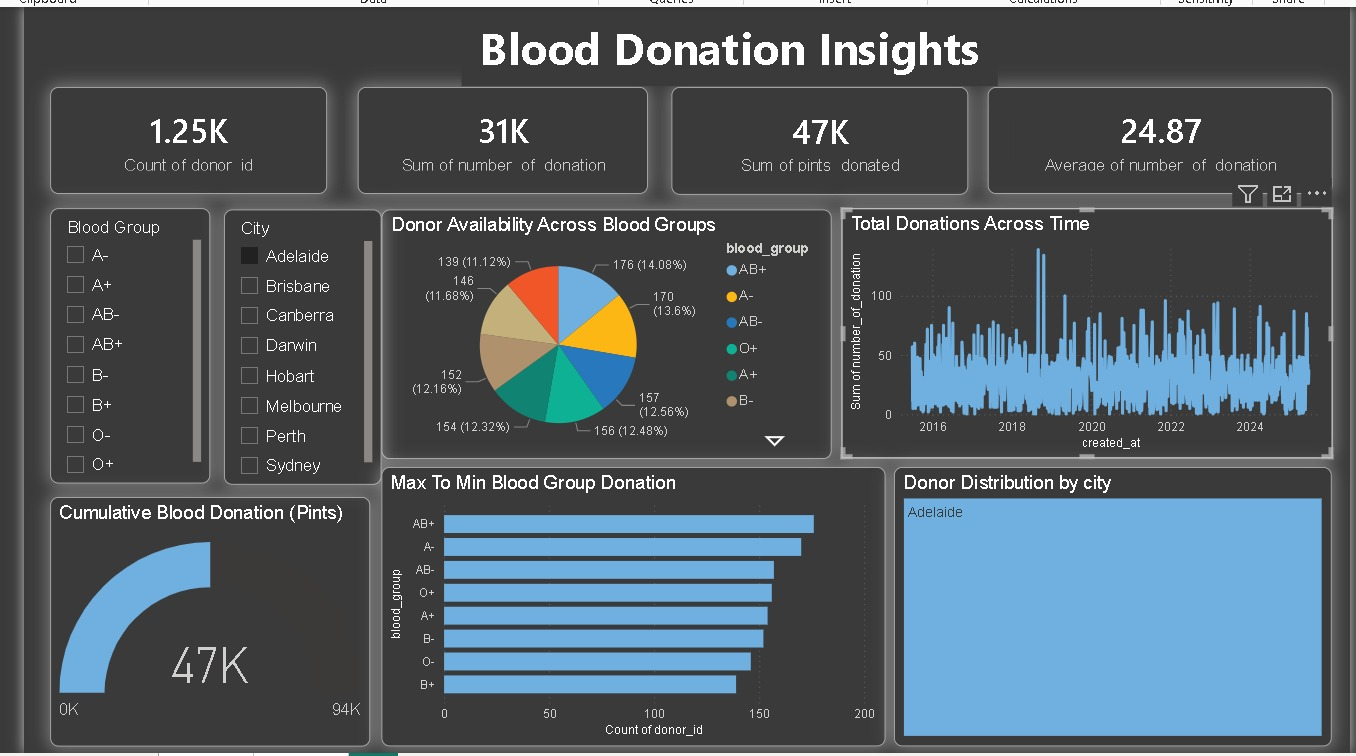

The page's visual inventory and layout, read from the dashboard file:
{"tool":"powerbi","page":{"name":"Page 1","canvas":[1280,720],"ordinal":0},"visuals":[{"type":"cardVisual","fields":{"Data":["CountNonNull(blood_donor_dataset.donor_id)"]},"box":[25.1,76.6,266.8,103],"z":0},{"type":"cardVisual","fields":{"Data":["Sum(blood_donor_dataset.number_of_donation)"]},"box":[322.3,76.6,280,103],"z":1000},{"type":"cardVisual","fields":{"Data":["Sum(blood_donor_dataset.pints_donated)"]},"box":[624.8,76.6,286.6,104.4],"z":2000},{"type":"cardVisual","fields":{"Data":["Avg(blood_donor_dataset.number_of_donation)"]},"box":[929.9,76.6,332.9,103],"z":3000},{"type":"pieChart","title":"Donor Availability Across Blood Groups","fields":{"Category":["blood_donor_dataset.blood_group"],"Y":["CountNonNull(blood_donor_dataset.availability)"]},"box":[344.8,195.5,434.6,240.4],"z":4000},{"type":"lineChart","title":"Total Donations Across Time","fields":{"Category":["blood_donor_dataset.created_at"],"Y":["Sum(blood_donor_dataset.number_of_donation)"]},"box":[788.6,194.2,474.2,241.7],"z":5000},{"type":"textbox","box":[422.7,6.6,517.8,70],"z":6000},{"type":"slicer","fields":{"Values":["blood_donor_dataset.blood_group"]},"box":[25.7,194.3,154.3,265.7],"z":7000},{"type":"gauge","title":"Cumulative Blood Donation (Pints)","fields":{"Y":["Sum(blood_donor_dataset.pints_donated)"]},"box":[25.1,472.9,309.1,240.4],"z":8000},{"type":"slicer","fields":{"Values":["blood_donor_dataset.city"]},"box":[193,195.4,152,265.4],"z":9000},{"type":"clusteredBarChart","title":"Max To Min  Blood Group Donation","fields":{"Y":["CountNonNull(blood_donor_dataset.donor_id)"],"Category":["blood_donor_dataset.blood_group"]},"box":[344.8,443.8,486.1,269.5],"z":10000},{"type":"treemap","title":"Donor Distribution by city","fields":{"Group":["blood_donor_dataset.city"],"Values":["CountNonNull(blood_donor_dataset.donor_id)"]},"box":[840.1,443.8,422.7,269.5],"z":11000}]}

Visuals, with their boxes in screenshot pixels (x1, y1, x2, y2):
cardVisual - CountNonNull(blood_donor_dataset.donor_id): 47 86 323 193
cardVisual - Sum(blood_donor_dataset.number_of_donation): 355 86 645 193
cardVisual - Sum(blood_donor_dataset.pints_donated): 668 86 965 194
cardVisual - Avg(blood_donor_dataset.number_of_donation): 984 86 1328 193
"Donor Availability Across Blood Groups" pieChart: 378 209 828 458
"Total Donations Across Time" lineChart: 837 208 1328 458
textbox: 459 14 995 86
slicer - blood_donor_dataset.blood_group: 48 208 208 483
"Cumulative Blood Donation (Pints)" gauge: 47 497 367 745
slicer - blood_donor_dataset.city: 221 209 378 484
"Max To Min  Blood Group Donation" clusteredBarChart: 378 466 881 745
"Donor Distribution by city" treemap: 891 466 1328 745
